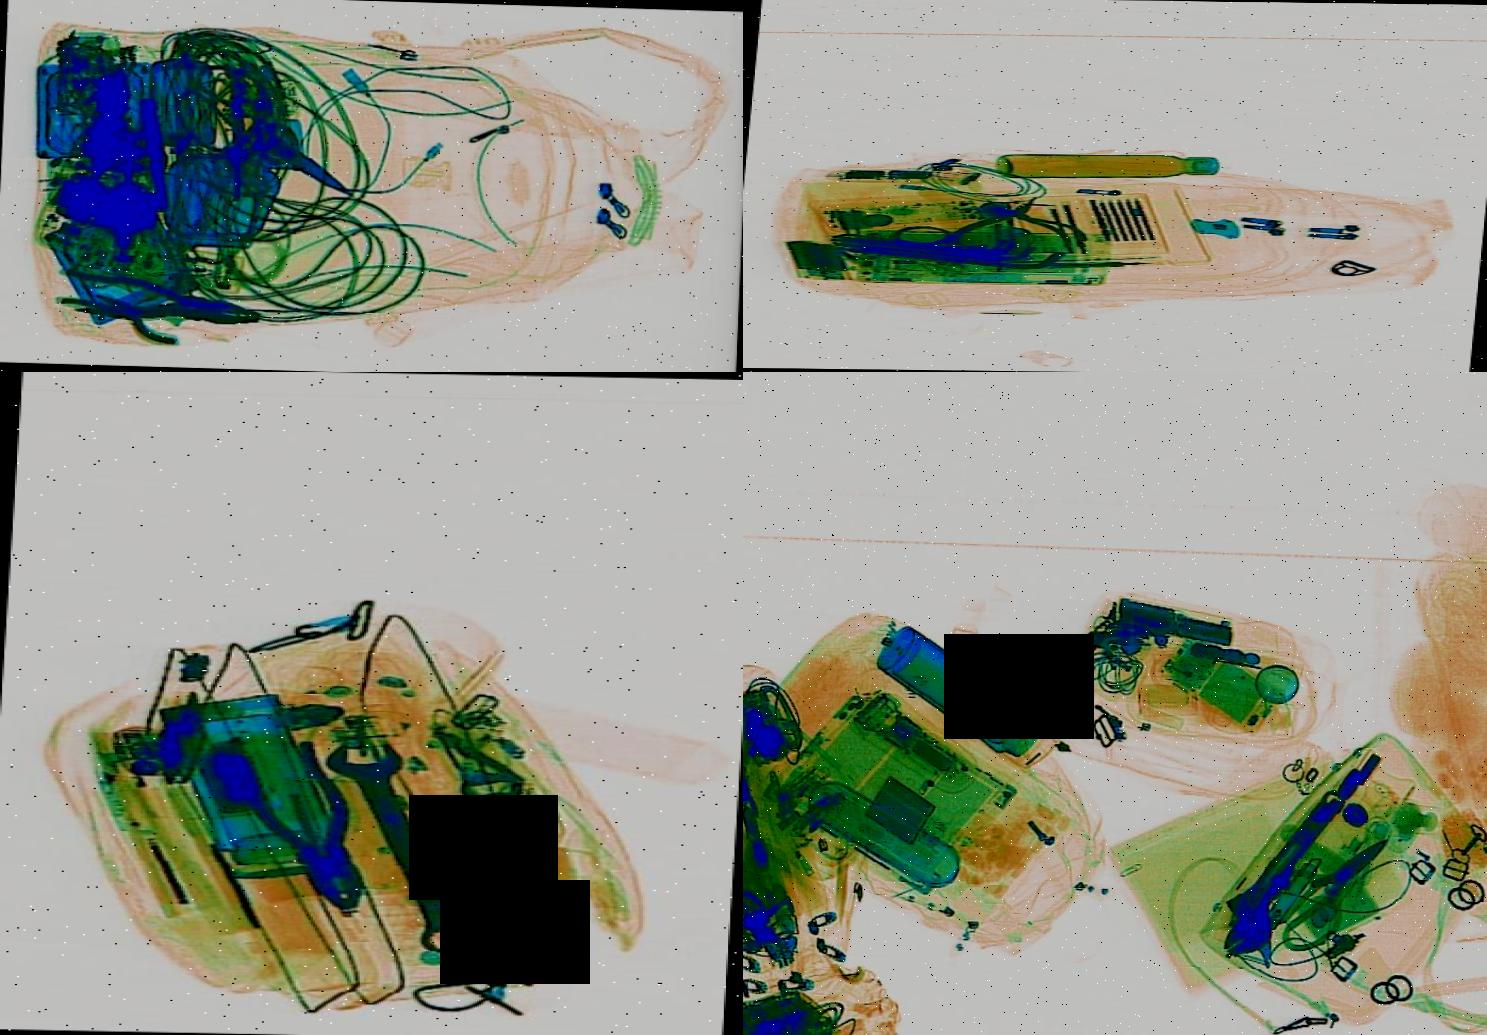Pliers: (218, 726, 406, 925), (43, 265, 277, 336), (944, 193, 1082, 256)
Wrench: (309, 725, 511, 966), (1194, 778, 1380, 967)
